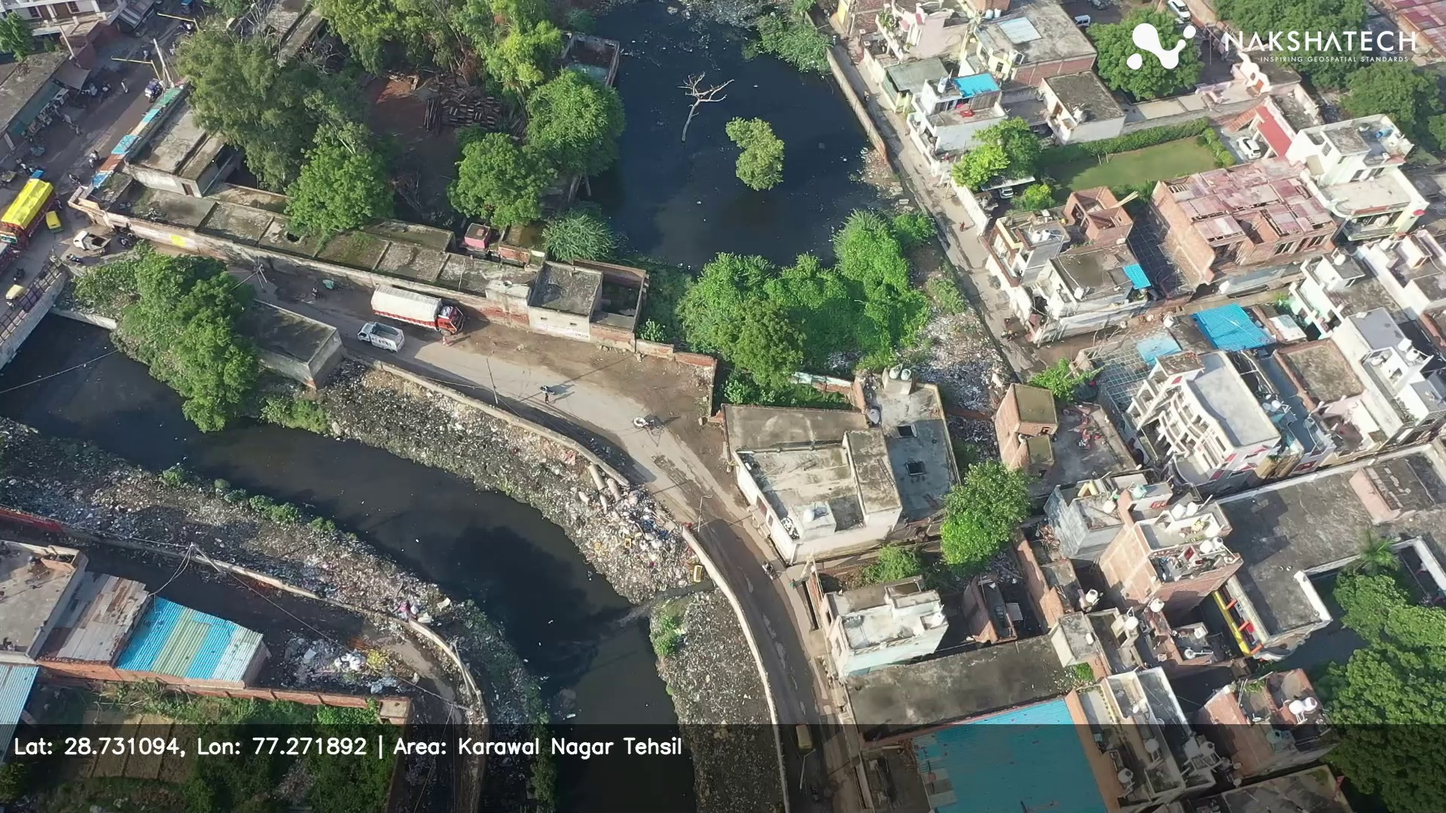drainage connection: (582, 558, 723, 648)
